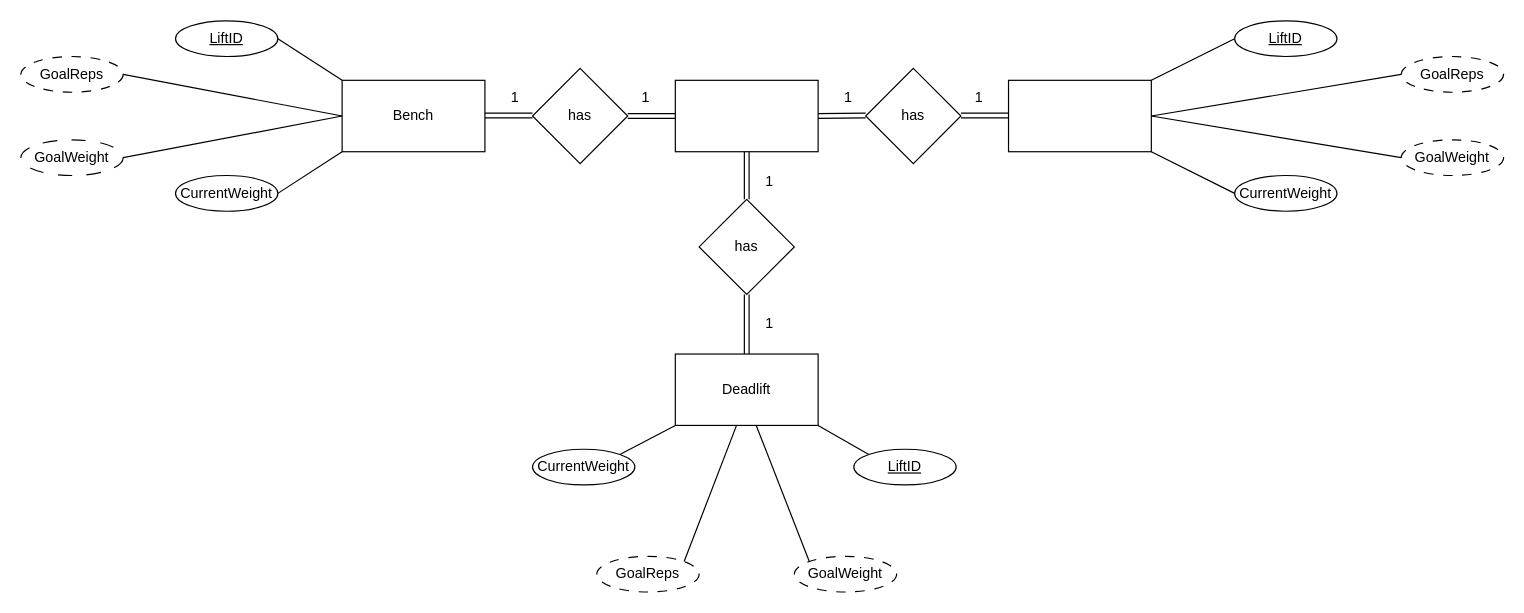
Some shapes in this 1524 by 613 pixel diagram are drawn without their labels. Each missing label, with the centre of its shape:
"ListofLifts" belongs at point (746, 115).
"Squat" belongs at point (1079, 115).
